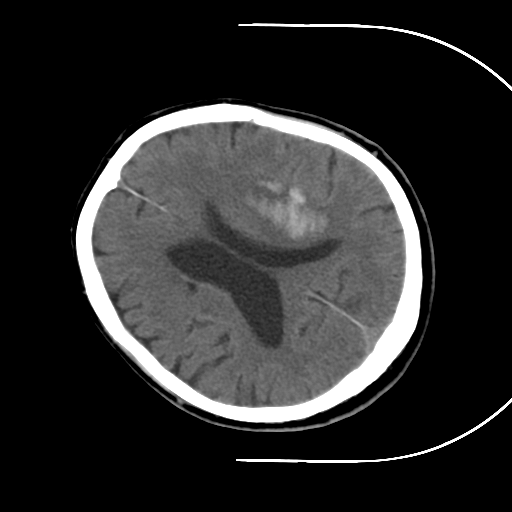a: (223, 162, 342, 259)
